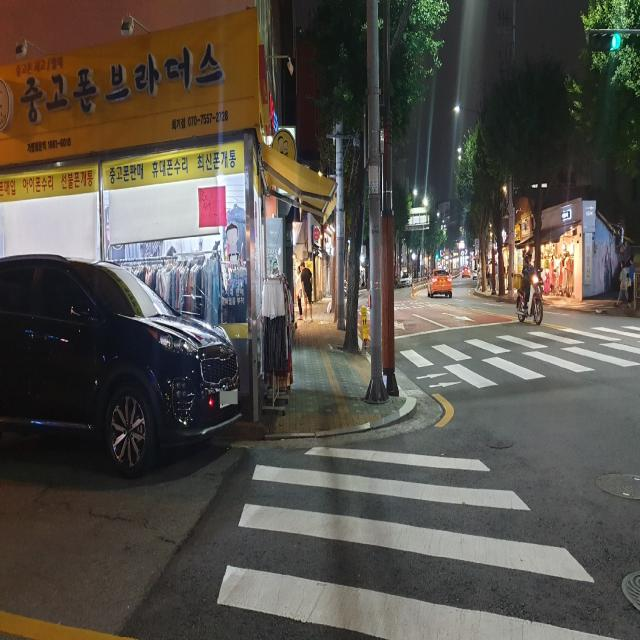횡단보도: (213, 440, 617, 640), (397, 327, 640, 391)
